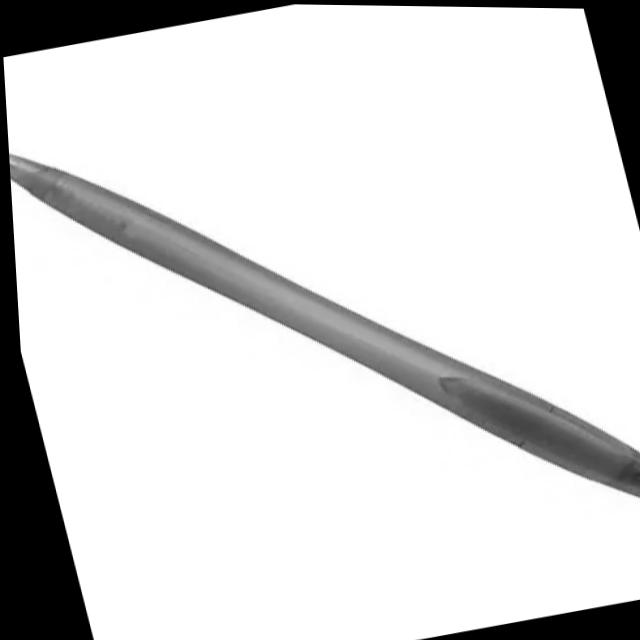pen: (1, 25, 640, 622)
